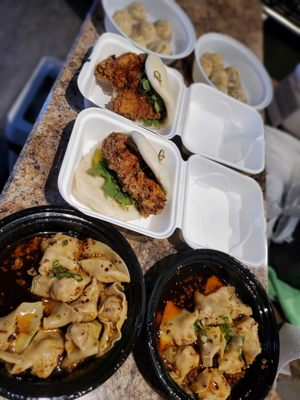sushi: (0, 206, 144, 399), (142, 247, 280, 400), (59, 108, 182, 239), (77, 32, 185, 136), (193, 31, 273, 122), (100, 0, 197, 65)
